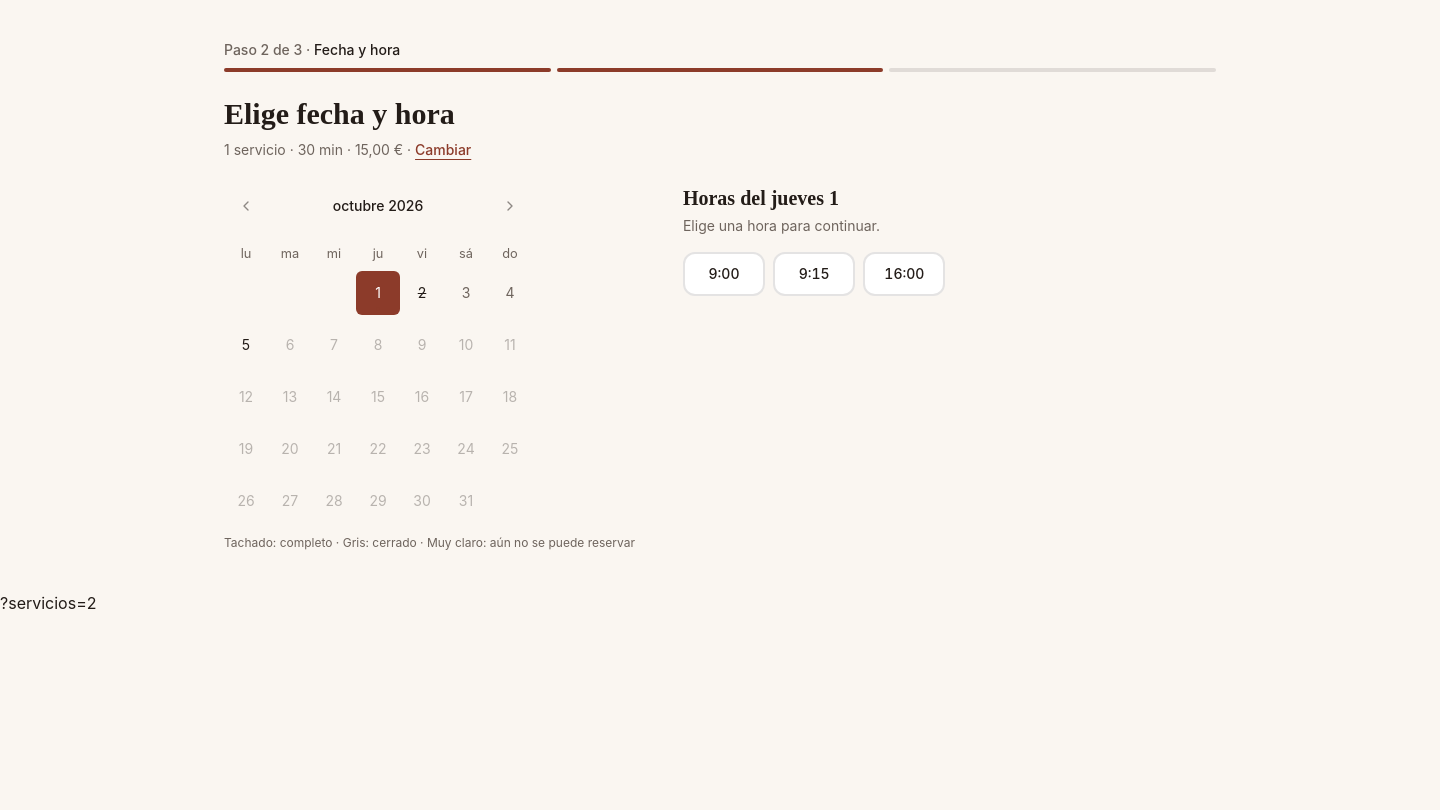
Test case: Paso 2: elegir fecha y hora › se preselecciona el primer día libre; elegir hora muestra la barra y Continuar lleva al paso 3
Expected: the heading "Horas del jueves 1" is shown, x1=683 y1=187 x2=839 y2=209
Step 1. Click the button "16:00" → coordinates (904, 274), box x1=863 y1=252 x2=946 y2=296
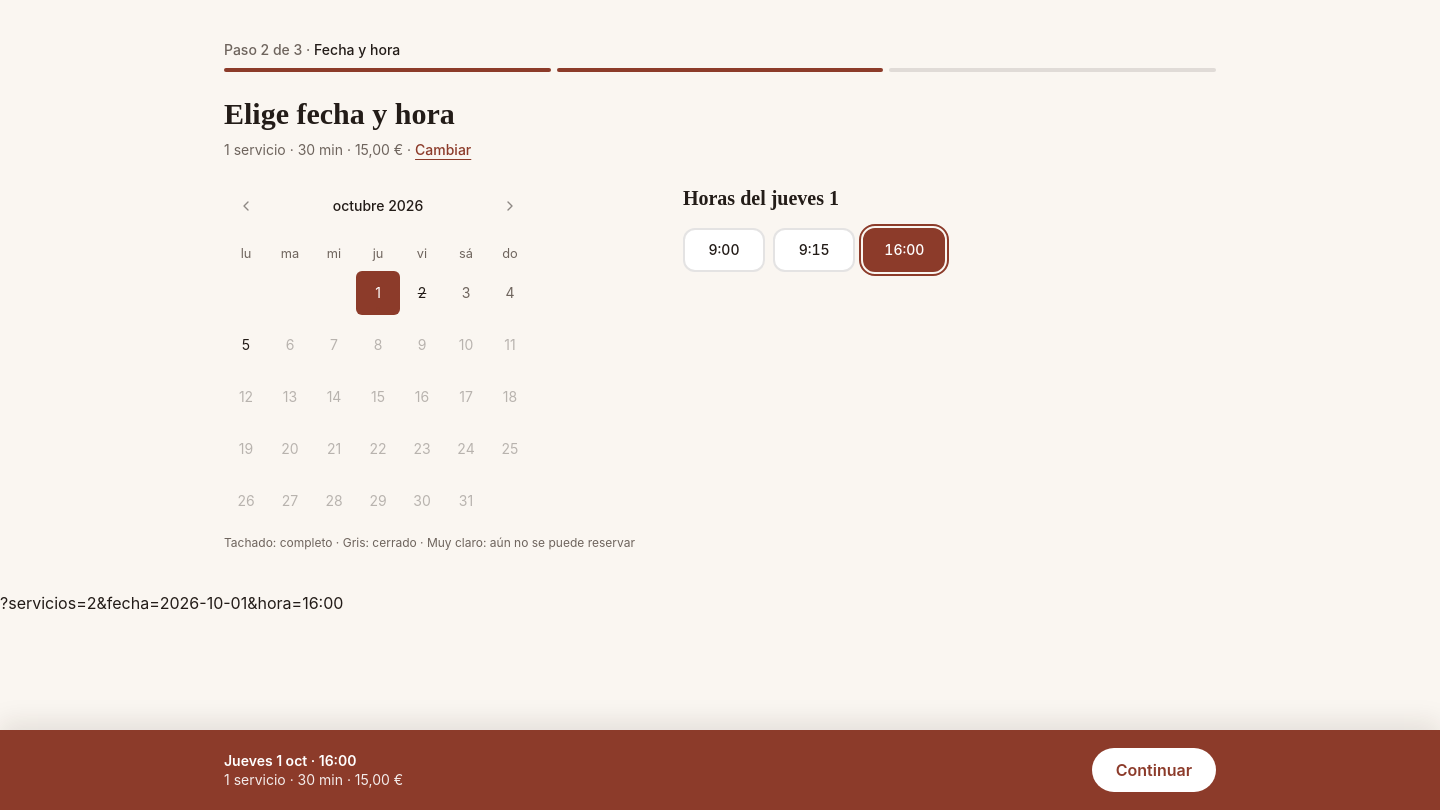
Now the text "Jueves 1 oct · 16:00" is shown, box x1=224 y1=752 x2=357 y2=769
Note: Cambiar de día quita la hora
Step 2. Click the button named "lunes 5 de octubre" → coordinates (246, 345), box x1=224 y1=323 x2=268 y2=367
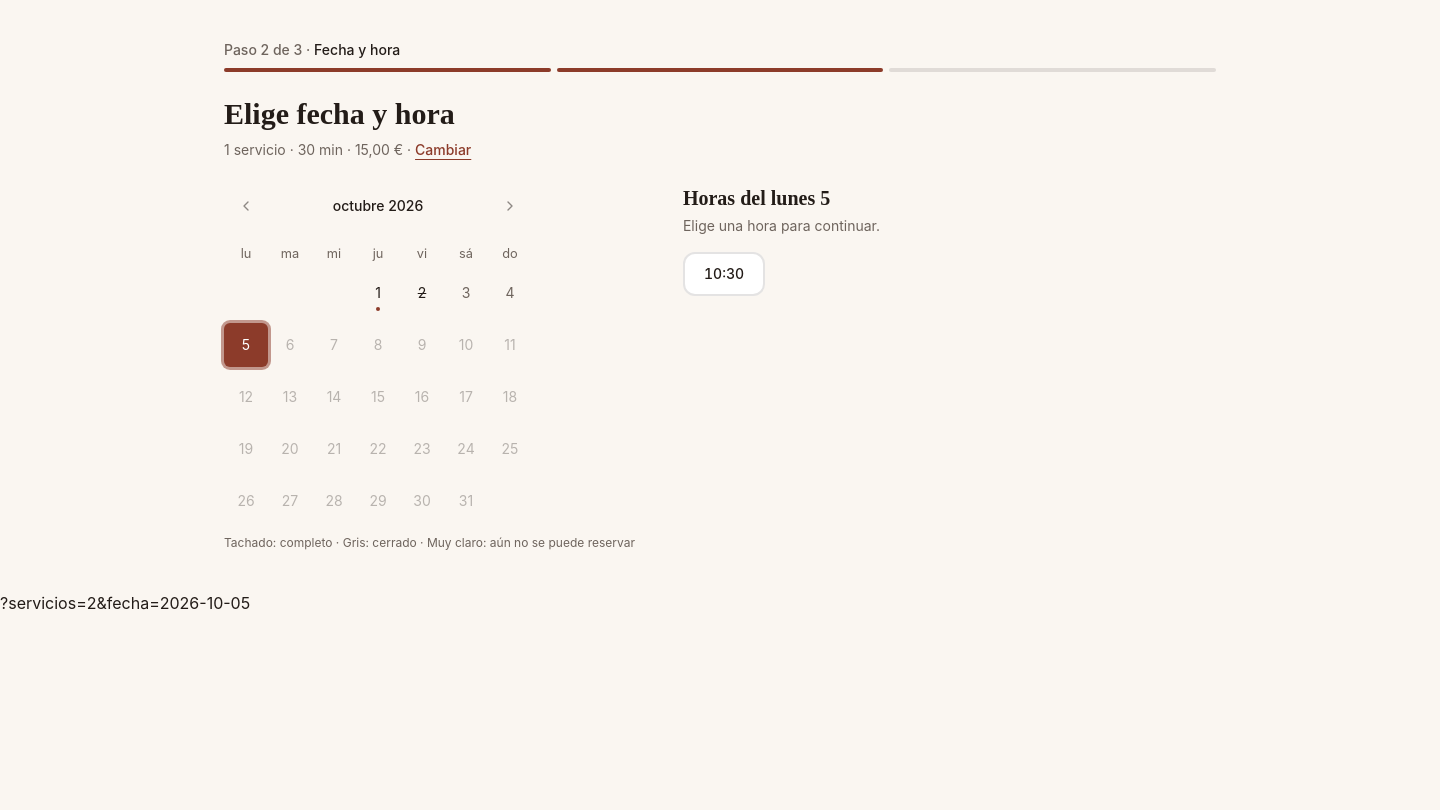
Now the heading "Horas del lunes 5" is shown, box x1=683 y1=187 x2=830 y2=209
Now the text with test id "url" reads "?servicios=2&fecha=2026-10-05", box x1=0 y1=593 x2=250 y2=613
